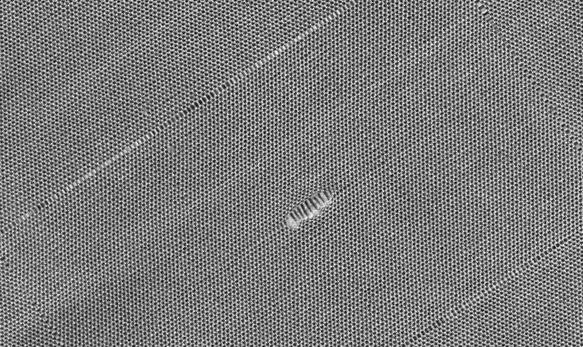slub: (279, 182, 342, 241)
